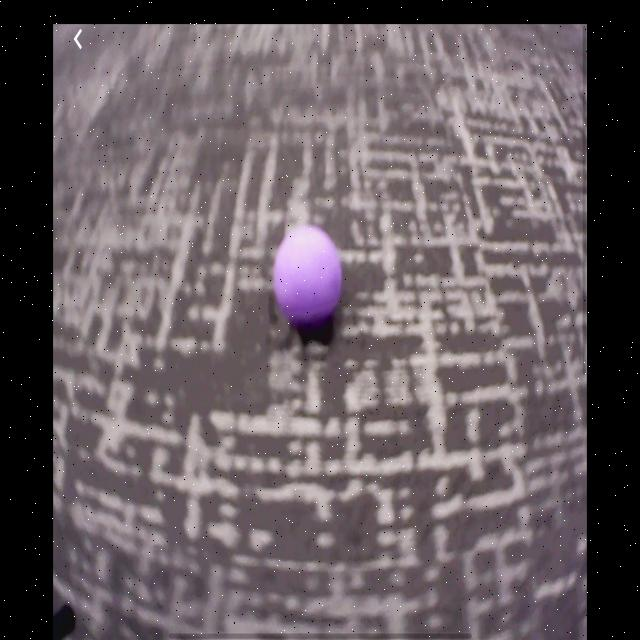ball: (276, 227, 341, 320)
